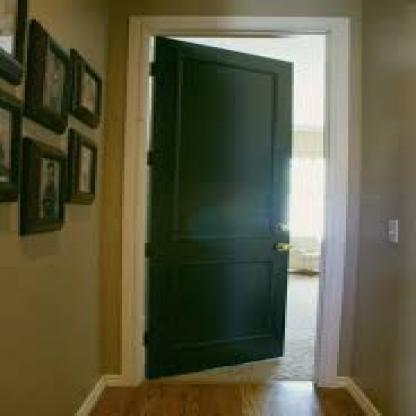door: (138, 31, 332, 377)
